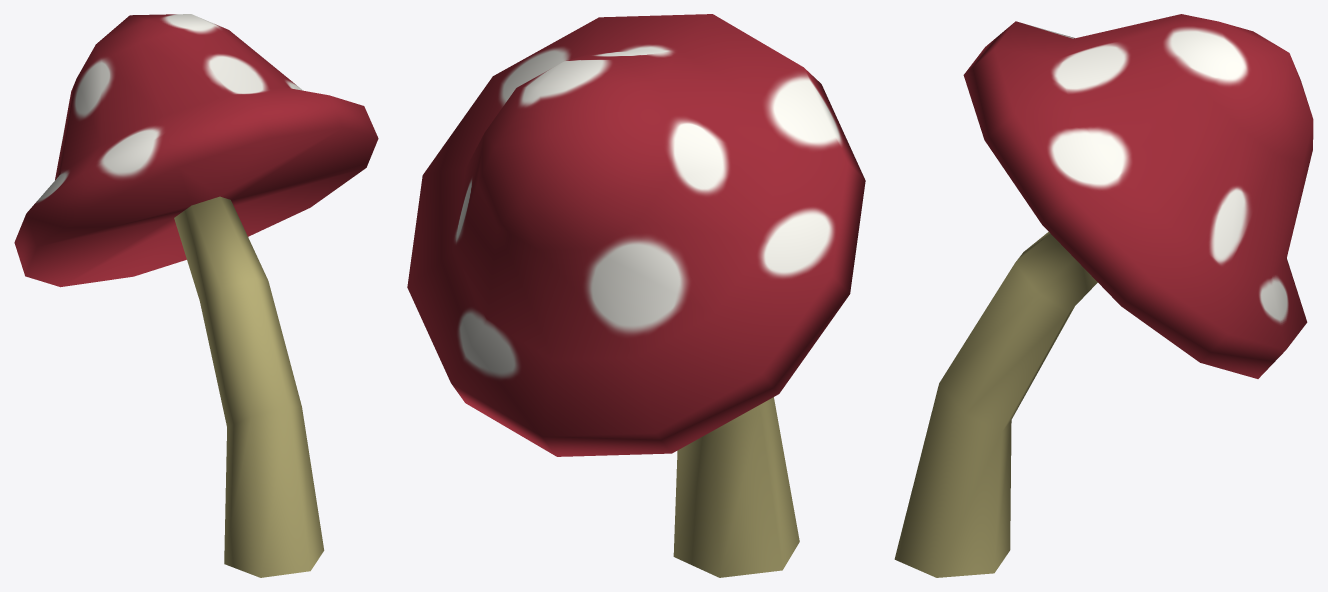
Rendered from Hongo_15.fbx.
3 renders of one model, left to right at view 1: azimuth 30°, elevation 25°; view 2: azimuth 150°, elevation 25°; view 3: azimuth 270°, elevation 25°, orthographic. The views are drawn at different scales.
Parts seen in each view (by area): view 1: Hongo_15; view 2: Hongo_15; view 3: Hongo_15.
Part boxes in pixels (x1,y1,x2,y2): Hongo_15: [14, 14, 378, 577]; Hongo_15: [407, 14, 865, 577]; Hongo_15: [894, 14, 1313, 577].
Size of the model in its own units: 1.38 by 1.32 by 1.84.
